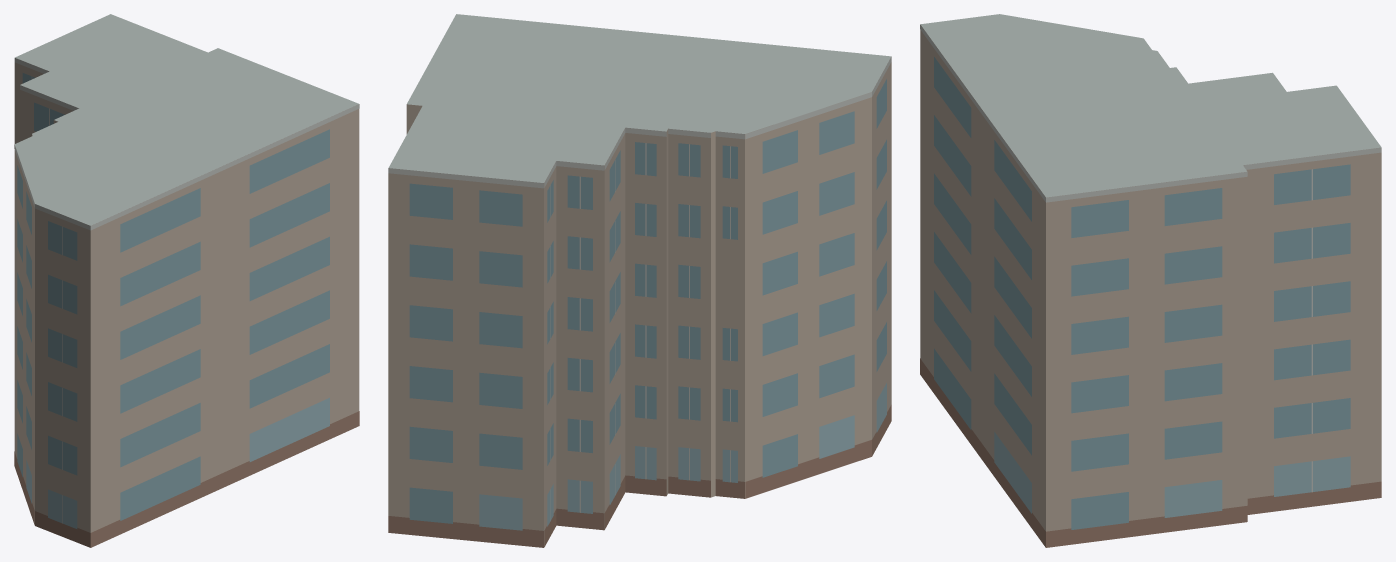
File: survey-upis-32666342.glb
3 views of the same model, side by side, from view 1: azimuth 30°, elevation 25°; view 2: azimuth 150°, elevation 25°; view 3: azimuth 270°, elevation 25° (orthographic). The views are drawn at different scales.
Parts seen in each view (by area): view 1: survey-upis-32666342.tmp; view 2: survey-upis-32666342.tmp; view 3: survey-upis-32666342.tmp.
Part boxes in pixels (x1,y1,x2,y2): survey-upis-32666342.tmp: [14, 14, 359, 547]; survey-upis-32666342.tmp: [388, 14, 891, 547]; survey-upis-32666342.tmp: [920, 14, 1381, 547].
Bounding box in the file's own units: 19 × 16.9 × 20.18.
